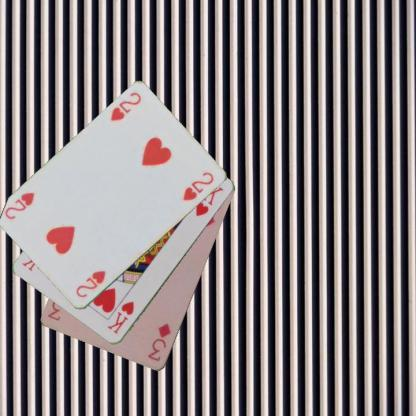2h: (108, 90, 143, 122), (73, 268, 107, 299)
3d: (145, 321, 172, 363)
Kh: (105, 298, 136, 336)
